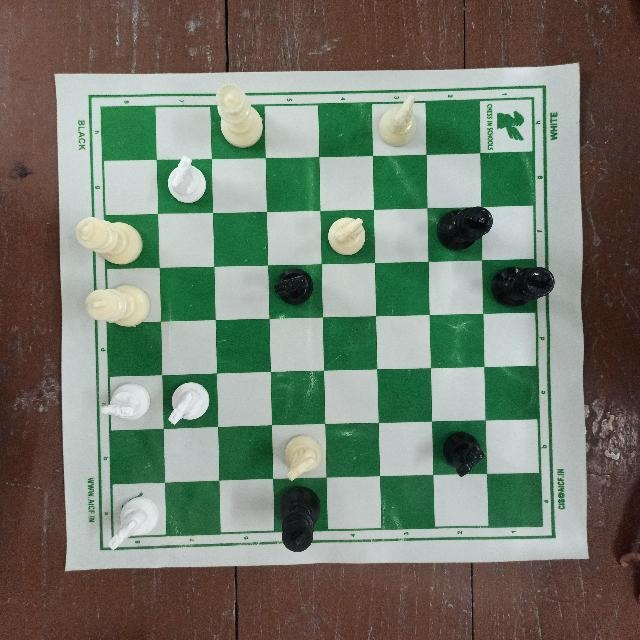black-king: (276, 479, 328, 555), (490, 258, 562, 309), (437, 194, 493, 253)
black-knight: (441, 423, 493, 476), (271, 264, 318, 313)
white-king: (65, 213, 146, 262), (80, 276, 155, 328)
white-knight: (103, 489, 160, 551), (92, 380, 153, 436), (377, 85, 423, 152), (270, 430, 320, 485), (162, 155, 210, 212), (162, 378, 209, 434), (324, 212, 371, 264)
white-queen: (212, 75, 265, 154)
